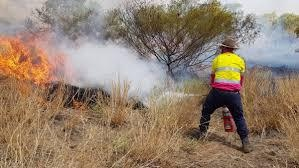fire: (0, 26, 66, 84)
